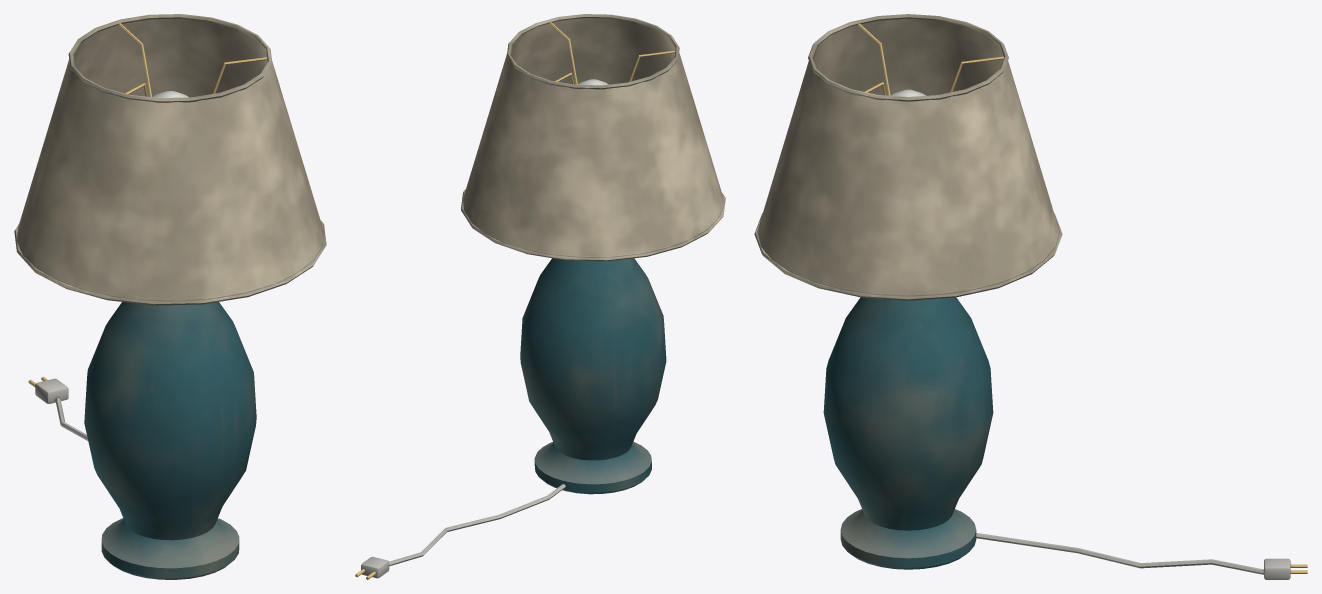
File: abajur.glb
The picture shows the model from 3 angles, left to right: view 1: azimuth 30°, elevation 25°; view 2: azimuth 150°, elevation 25°; view 3: azimuth 270°, elevation 25°; orthographic projection. The views are drawn at different scales.
Visible parts, largest first — view 1: abajur; view 2: abajur; view 3: abajur.
Part boxes in pixels (box(x1,y1,x2,y2)): abajur: box(14, 14, 326, 579); abajur: box(355, 14, 725, 579); abajur: box(754, 14, 1307, 579).
Bounding box in the file's own units: 0.3452 × 0.6013 × 0.6196.
Materials: 1 (1 with a texture image).
